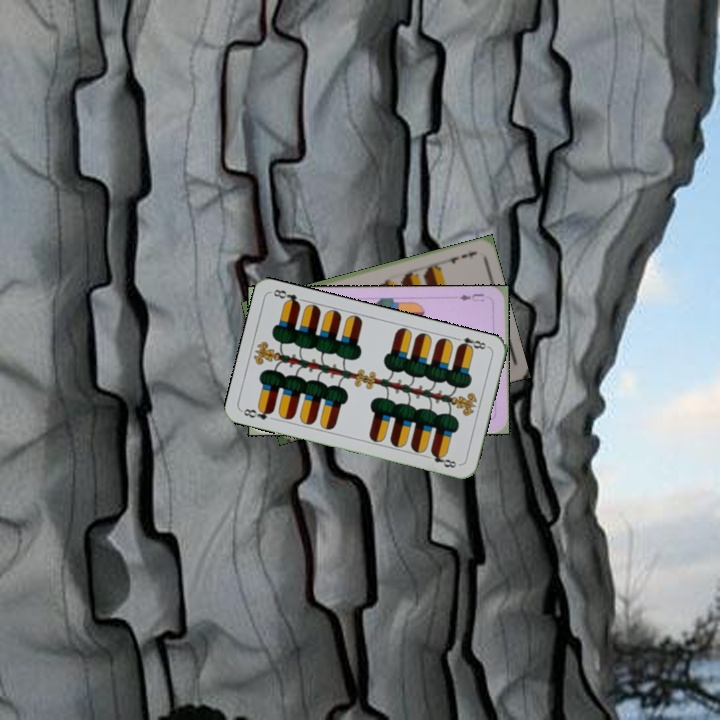E7: (440, 247, 480, 266)
E8: (451, 333, 491, 353), (239, 403, 276, 422)
EU: (455, 289, 487, 304)
